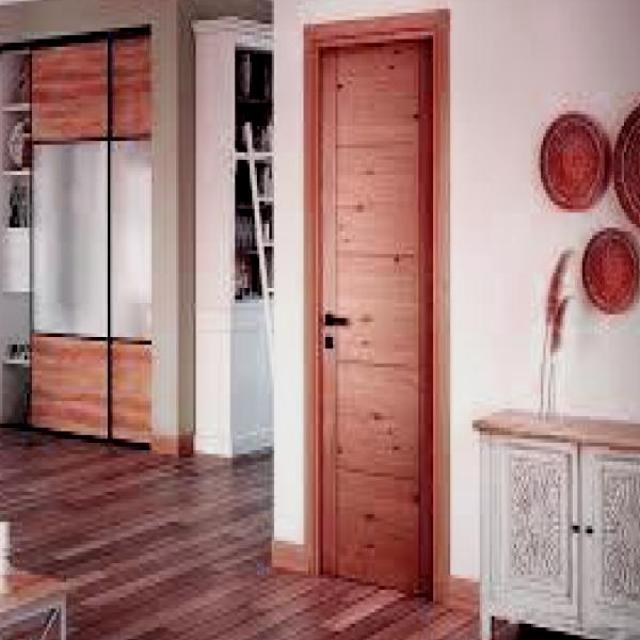door: (312, 32, 433, 598)
